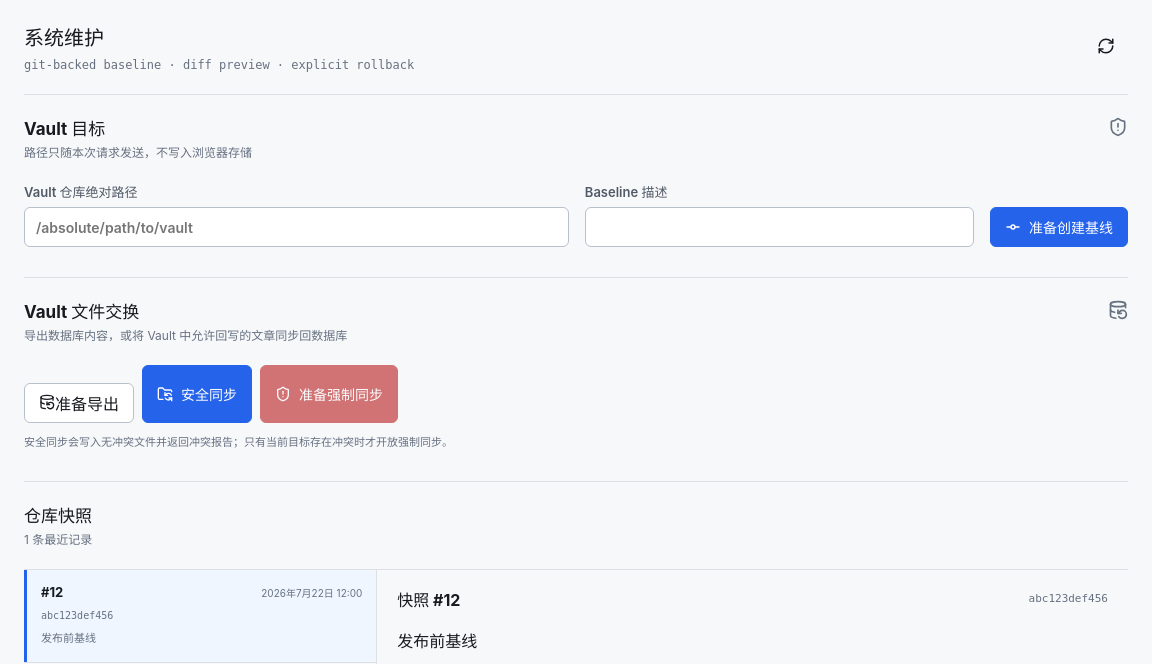
Test case: repository maintenance page › shows the Vault export target before sending the request
Type "/tmp/lattice-vault" into the field labelled "Vault 仓库绝对路径". click: (296, 227)
box: [24,207,569,247]
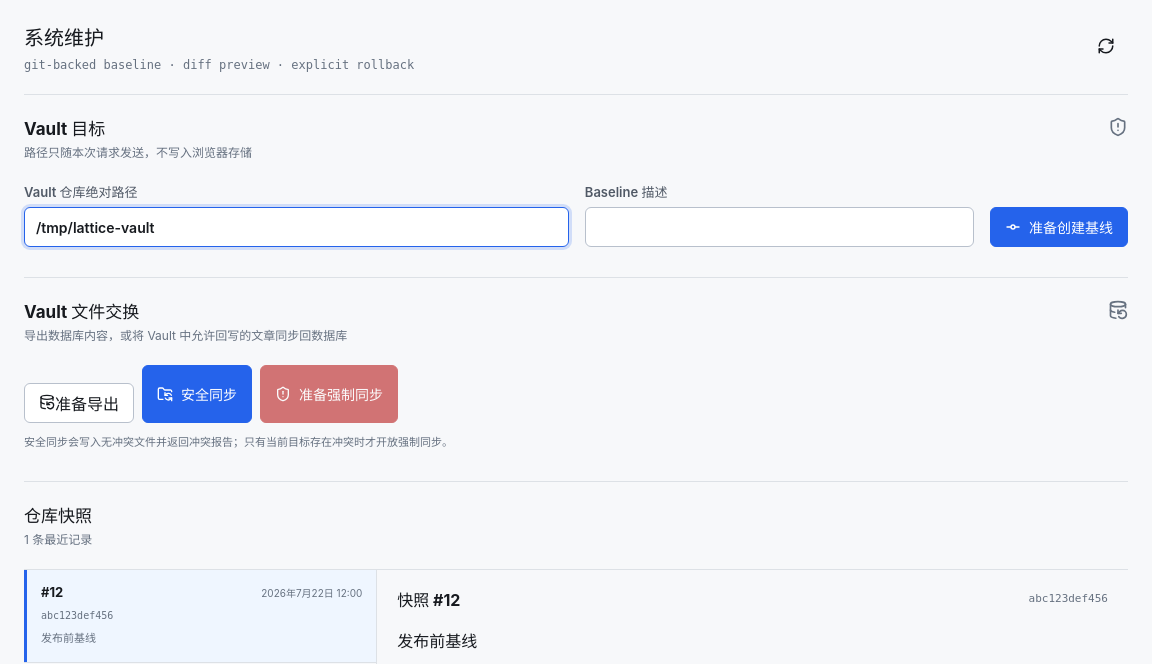
Click the button "准备导出". click: (79, 403)
box: [24,383,134,423]
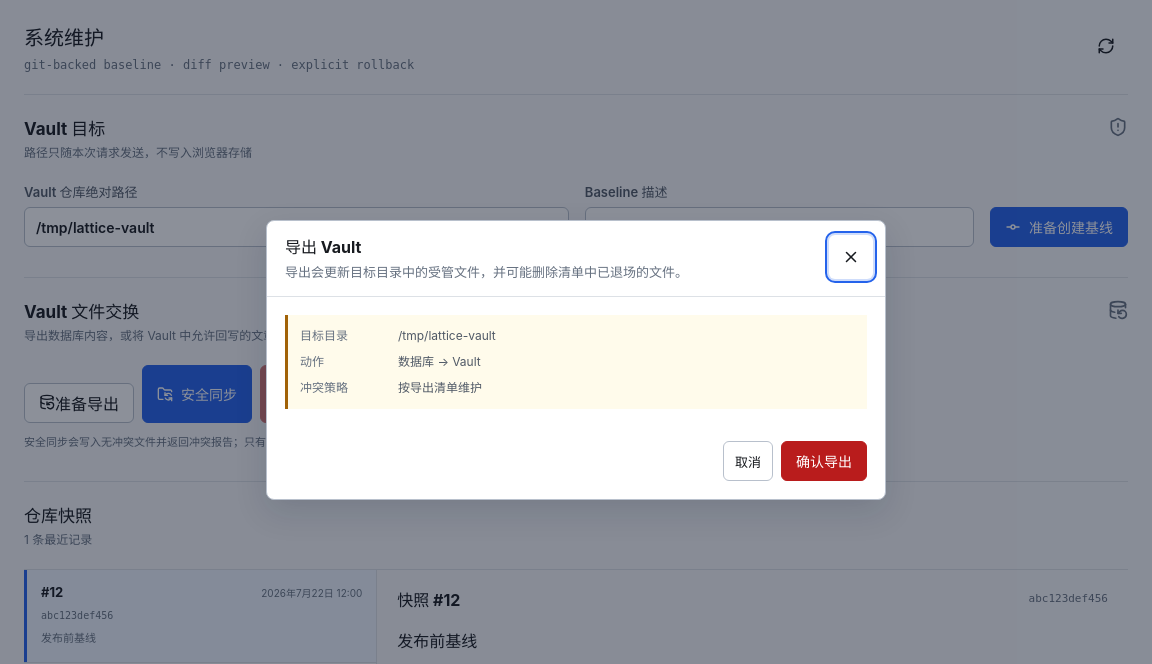
Result: the text "/tmp/lattice-vault" is shown at [398,328,496,343]
Click the button "确认导出". click: (824, 461)
box: [781,441,867,481]
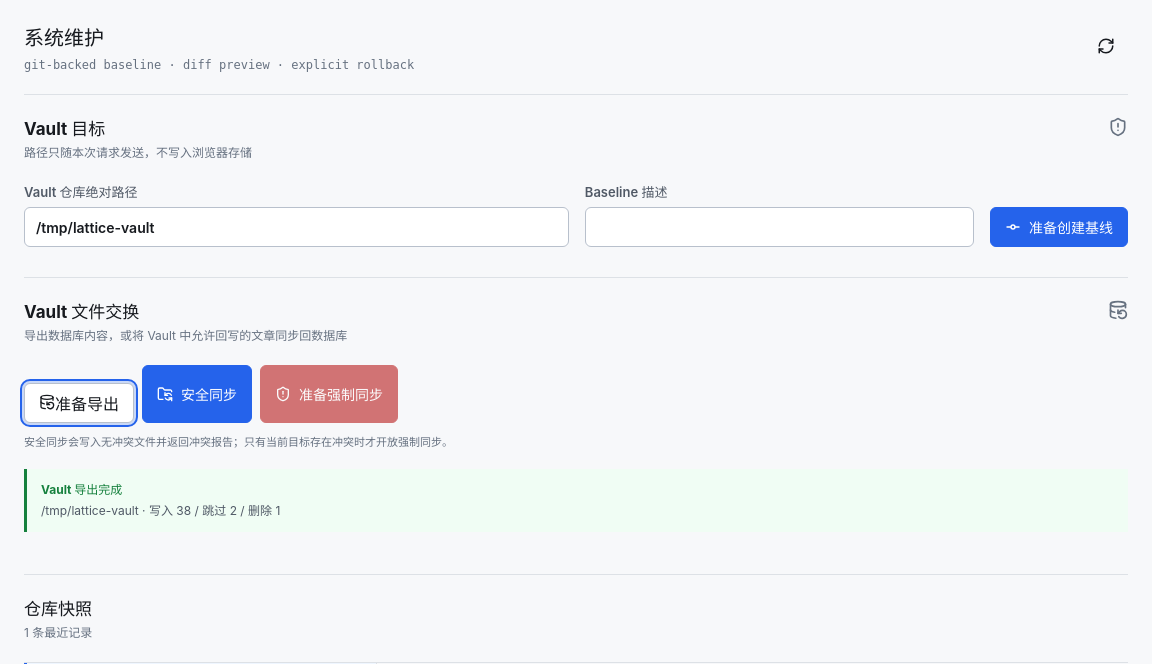
Result: the text "Vault 导出完成" is shown at [41,482,122,497]
